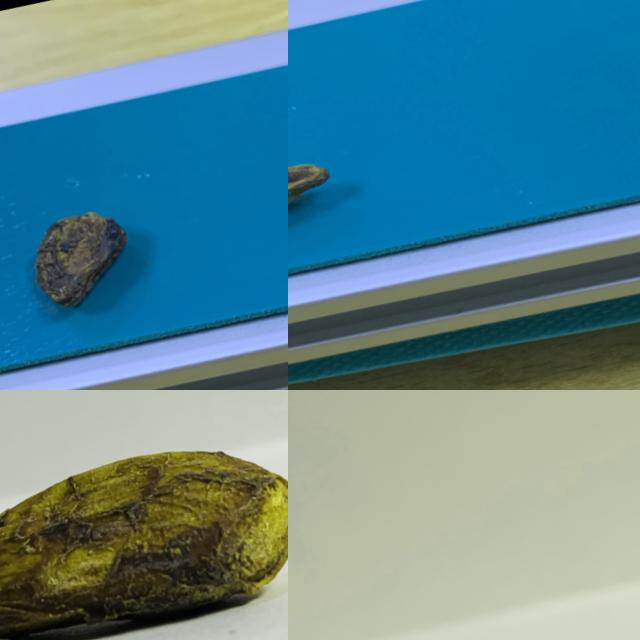Fine_cocoabeans: (0, 390, 287, 639)
Flat_cocoabeans: (0, 154, 255, 382), (288, 75, 434, 311), (288, 584, 610, 639)
